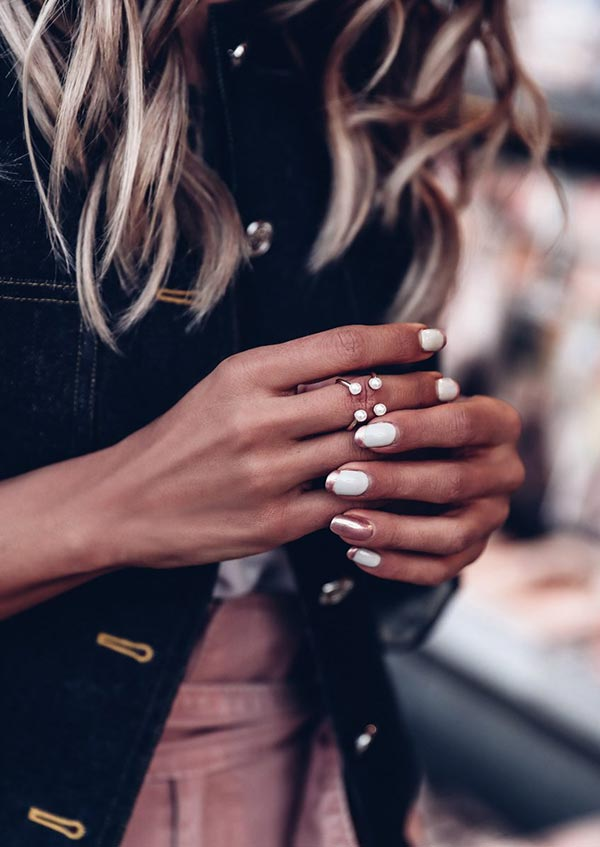finger: (242, 312, 445, 402), (271, 373, 454, 442), (271, 418, 444, 488), (322, 457, 527, 500), (337, 541, 503, 588), (326, 505, 505, 546), (360, 402, 494, 453), (296, 482, 404, 537)
